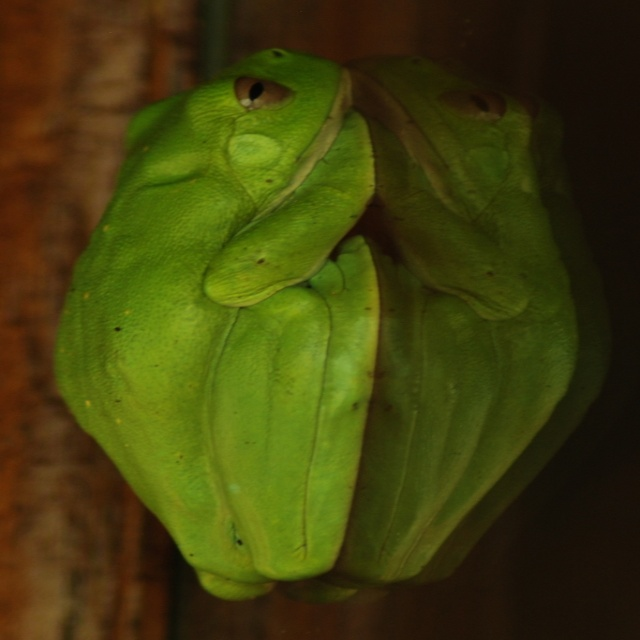Frog: (55, 46, 370, 596)
